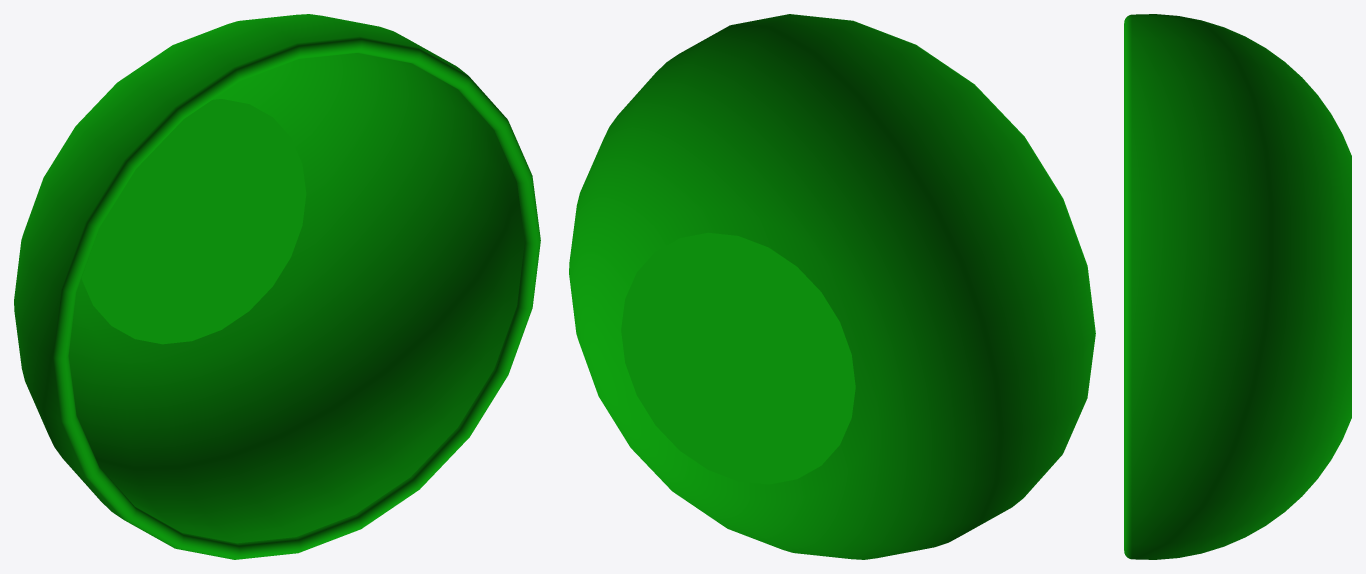
Rendered from model_scale.obj.
The picture shows the model from 3 angles, left to right: view 1: azimuth 30°, elevation 25°; view 2: azimuth 150°, elevation 25°; view 3: azimuth 270°, elevation 25°; orthographic projection. The views are drawn at different scales.
Parts seen in each view (by area): view 1: mesh1_mesh1-geometry; view 2: mesh1_mesh1-geometry; view 3: mesh1_mesh1-geometry.
Part boxes in pixels (x1,y1,x2,y2): mesh1_mesh1-geometry: (14, 14, 540, 559); mesh1_mesh1-geometry: (569, 14, 1095, 559); mesh1_mesh1-geometry: (1124, 14, 1351, 559).
Size of the model in its own units: 0.1656 by 0.1656 by 0.0688.
